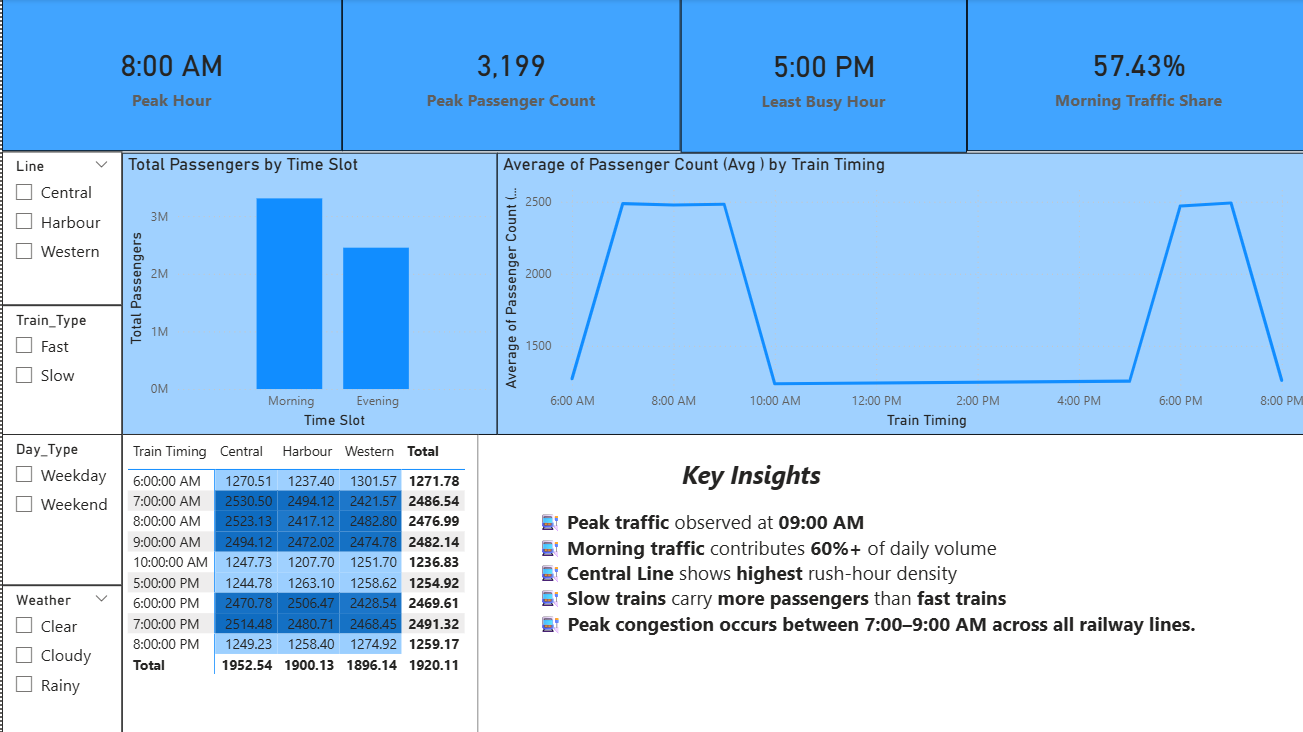

The dashboard page shown, as its layout file describes it:
{"tool":"powerbi","page":{"name":"Page 2","canvas":[1280,720],"ordinal":1},"visuals":[{"type":"card","fields":{"Values":["Mumbai_Local_Data.Peak Hour"]},"box":[0,0,332.6,149.2],"z":0},{"type":"card","fields":{"Values":["Mumbai_Local_Data.Peak Passenger Count"]},"box":[332.6,0,331.4,149.2],"z":1000},{"type":"card","fields":{"Values":["Mumbai_Local_Data.Least Busy Hour"]},"box":[664,0,280,150.4],"z":2000},{"type":"lineChart","fields":{"Category":["Mumbai_Local_Data.Train Timing "],"Y":["Avg(Mumbai_Local_Data.Passenger Count (Avg ))"]},"box":[484.2,150.4,796.1,276.4],"z":3000},{"type":"clusteredColumnChart","fields":{"Category":["Mumbai_Local_Data.Time Slot"],"Y":["Mumbai_Local_Data.Total Passengers"]},"box":[117.4,150.4,366.8,276.4],"z":4000},{"type":"pivotTable","fields":{"Columns":["Mumbai_Local_Data.Line"],"Values":["Avg(Mumbai_Local_Data.Passenger Count (Avg ))"],"Rows":["Mumbai_Local_Data.Train Timing "]},"box":[117.4,425.5,348.5,294.7],"z":5000},{"type":"slicer","fields":{"Values":["Mumbai_Local_Data.Line"]},"box":[0,149.2,117.4,150.4],"z":6000},{"type":"slicer","fields":{"Values":["Mumbai_Local_Data.Train_Type"]},"box":[0,299.6,117.4,127.2],"z":7000},{"type":"slicer","fields":{"Values":["Mumbai_Local_Data.Day_Type"]},"box":[0,425.5,117.4,148],"z":8000},{"type":"slicer","fields":{"Values":["Mumbai_Local_Data.Weather"]},"box":[0,573.5,117.4,146.7],"z":9000},{"type":"textbox","box":[465.9,426.8,805.8,293.5],"z":10000},{"type":"card","fields":{"Values":["Mumbai_Local_Data.Morning Traffic %"]},"box":[944,0,336.3,149.2],"z":11000}]}

Visuals, with their boxes in screenshot pixels (x1, y1, x2, y2), scaled from the page's 1280x720 canvas onto the 1303x732 screenshot:
card - Mumbai_Local_Data.Peak Hour: 0,0,339,152
card - Mumbai_Local_Data.Peak Passenger Count: 339,0,676,152
card - Mumbai_Local_Data.Least Busy Hour: 676,0,961,153
lineChart - Mumbai_Local_Data.Train Timing  x Avg(Mumbai_Local_Data.Passenger Count (Avg )): 493,153,1302,434
clusteredColumnChart - Mumbai_Local_Data.Time Slot x Mumbai_Local_Data.Total Passengers: 120,153,493,434
pivotTable - Mumbai_Local_Data.Line x Avg(Mumbai_Local_Data.Passenger Count (Avg )): 120,433,474,731
slicer - Mumbai_Local_Data.Line: 0,152,120,305
slicer - Mumbai_Local_Data.Train_Type: 0,305,120,434
slicer - Mumbai_Local_Data.Day_Type: 0,433,120,583
slicer - Mumbai_Local_Data.Weather: 0,583,120,731
textbox: 474,434,1295,731
card - Mumbai_Local_Data.Morning Traffic %: 961,0,1302,152
